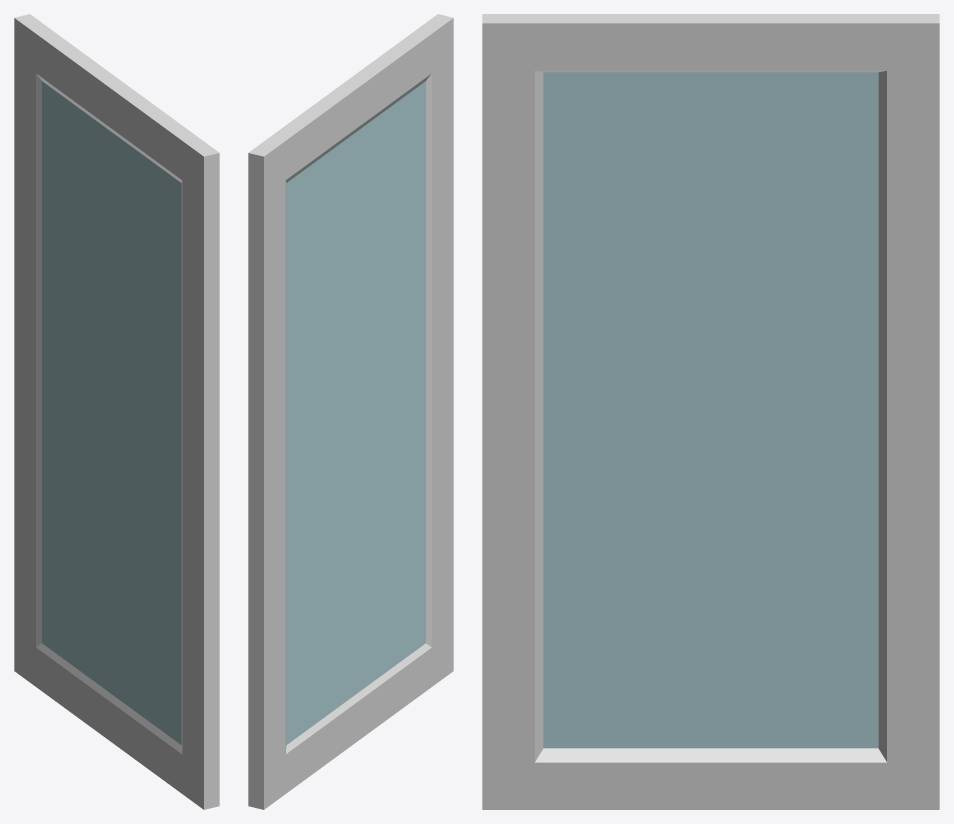
Rendered from Deur.gltf.
3 views of the same model, side by side, from view 1: azimuth 30°, elevation 25°; view 2: azimuth 150°, elevation 25°; view 3: azimuth 270°, elevation 25° (orthographic). The views are drawn at different scales.
Parts seen in each view (by area): view 1: Cube.008; view 2: Cube.008; view 3: Cube.008.
Boxes of the visible parts, left/top/right/bottom form: Cube.008: left=14, top=14, right=219, bottom=809; Cube.008: left=248, top=14, right=453, bottom=809; Cube.008: left=482, top=14, right=939, bottom=809.
Bounding box in the file's own units: 0.1266 × 5.03 × 2.65.
